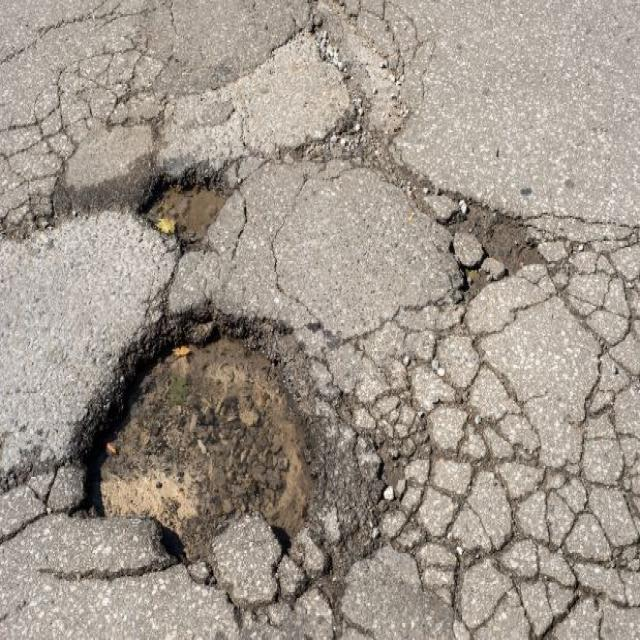pothole: (59, 295, 348, 575), (436, 188, 544, 300), (132, 163, 234, 246)
